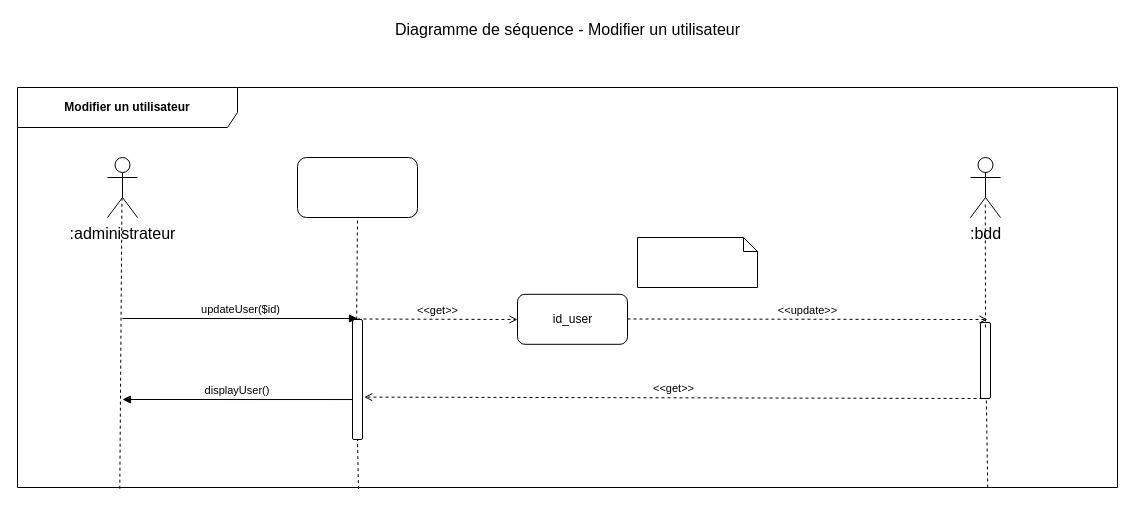
The diagram is 1135 pixels wide and 508 high, and some of its shapes have lost their labels. Here are the shapes that lost their labels. From the top down, the box of each, then its label:
(296, 156, 418, 218): :system
(636, 236, 758, 288): name, role, password...
